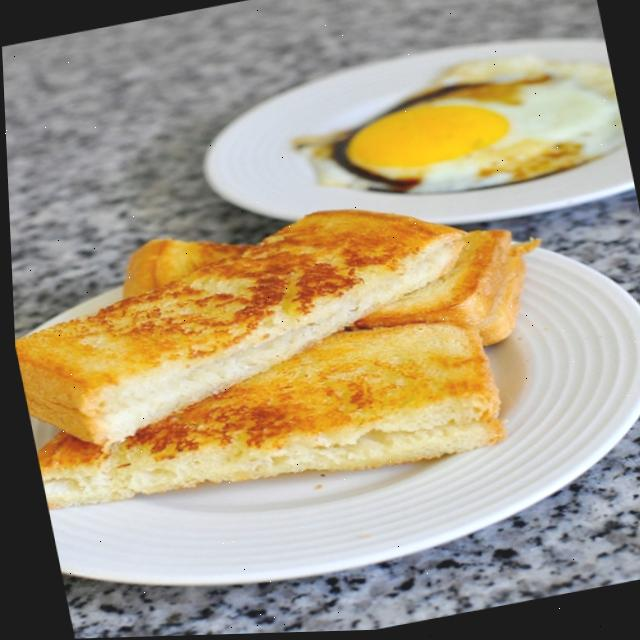面包点心: (5, 130, 640, 623)
